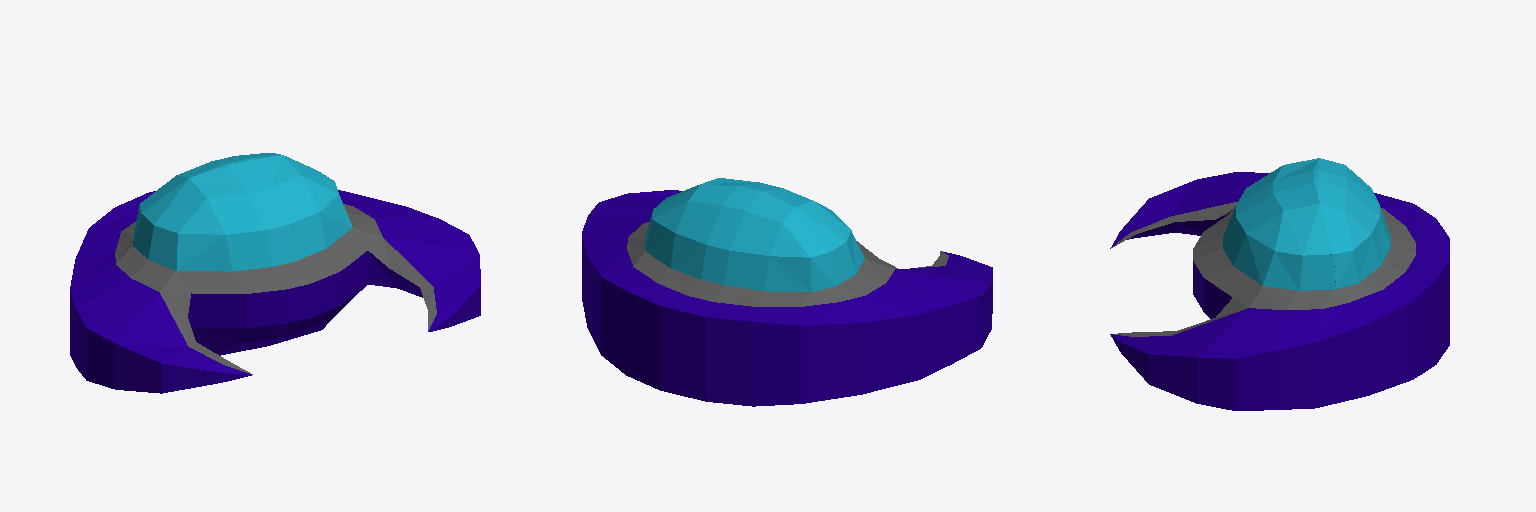
File: miniship.obj
The picture shows the model from 3 angles: view 1: azimuth 30°, elevation 25°; view 2: azimuth 150°, elevation 25°; view 3: azimuth 270°, elevation 25°; orthographic projection.
Parts seen in each view (by area): view 1: Plane; view 2: Plane; view 3: Plane.
Part boxes in pixels (bbox=[...]): Plane: bbox=[70, 153, 480, 393]; Plane: bbox=[582, 178, 992, 406]; Plane: bbox=[1110, 158, 1449, 410].
Bounding box in the file's own units: 16.8 × 6.74 × 12.92.